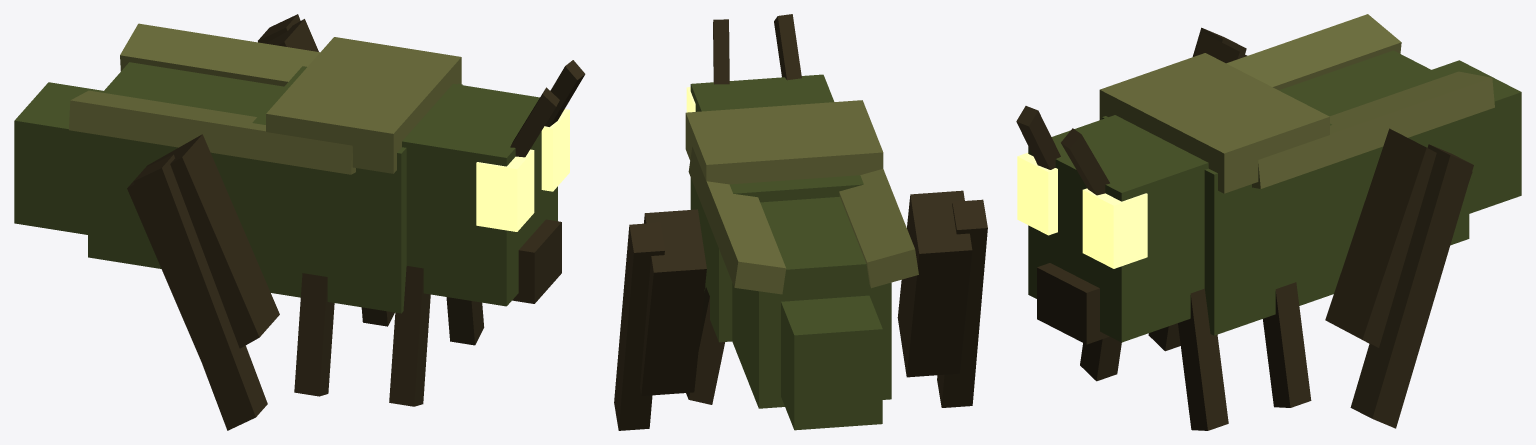
The model's file is locust.glb.
The picture shows the model from 3 angles, left to right: view 1: azimuth 30°, elevation 25°; view 2: azimuth 150°, elevation 25°; view 3: azimuth 270°, elevation 25°; orthographic projection. The views are drawn at different scales.
Visible parts, largest first — view 1: P02_LocustChitin, P00_LocustChitin, P01_LocustShell, P08_LocustChitin, P14_LocustLimb, P10_LocustShell, P12_LocustLimb, P09_LocustChitin, P11_LocustShell, P18_LocustLimb, P16_LocustLimb, P03_LocustEye (+6 smaller); view 2: P08_LocustChitin, P01_LocustShell, P09_LocustChitin, P12_LocustLimb, P13_LocustLimb, P11_LocustShell, P15_LocustLimb, P10_LocustShell, P00_LocustChitin, P14_LocustLimb, P02_LocustChitin, P17_LocustLimb (+2 smaller); view 3: P02_LocustChitin, P00_LocustChitin, P01_LocustShell, P15_LocustLimb, P13_LocustLimb, P11_LocustShell, P08_LocustChitin, P10_LocustShell, P09_LocustChitin, P19_LocustLimb, P04_LocustEye, P17_LocustLimb (+7 smaller).
Part boxes in pixels (x1=…): P02_LocustChitin: x1=402, y1=83, x2=557, y2=306; P00_LocustChitin: x1=246, y1=66, x2=462, y2=313; P01_LocustShell: x1=266, y1=37, x2=461, y2=173; P08_LocustChitin: x1=88, y1=62, x2=283, y2=268; P14_LocustLimb: x1=133, y1=154, x2=267, y2=430; P10_LocustShell: x1=69, y1=90, x2=355, y2=174; P12_LocustLimb: x1=127, y1=134, x2=279, y2=358; P09_LocustChitin: x1=14, y1=82, x2=103, y2=234; P11_LocustShell: x1=120, y1=23, x2=319, y2=86; P18_LocustLimb: x1=389, y1=266, x2=430, y2=406; P16_LocustLimb: x1=294, y1=273, x2=334, y2=396; P03_LocustEye: x1=476, y1=149, x2=534, y2=231; P08_LocustChitin: x1=732, y1=196, x2=891, y2=408; P01_LocustShell: x1=685, y1=100, x2=883, y2=184; P09_LocustChitin: x1=781, y1=295, x2=882, y2=430; P12_LocustLimb: x1=897, y1=190, x2=972, y2=377; P13_LocustLimb: x1=640, y1=209, x2=706, y2=395; P11_LocustShell: x1=688, y1=147, x2=786, y2=294; P15_LocustLimb: x1=614, y1=222, x2=664, y2=430; P10_LocustShell: x1=839, y1=169, x2=918, y2=288; P00_LocustChitin: x1=694, y1=175, x2=863, y2=342; P14_LocustLimb: x1=937, y1=199, x2=987, y2=407; P02_LocustChitin: x1=690, y1=74, x2=834, y2=209; P17_LocustLimb: x1=686, y1=286, x2=724, y2=404; P02_LocustChitin: x1=1028, y1=115, x2=1208, y2=342; P00_LocustChitin: x1=1102, y1=116, x2=1342, y2=335; P01_LocustShell: x1=1099, y1=53, x2=1329, y2=193; P15_LocustLimb: x1=1350, y1=144, x2=1473, y2=428; P13_LocustLimb: x1=1325, y1=128, x2=1472, y2=347; P11_LocustShell: x1=1252, y1=71, x2=1494, y2=188; P08_LocustChitin: x1=1279, y1=50, x2=1469, y2=267; P10_LocustShell: x1=1226, y1=14, x2=1401, y2=90; P09_LocustChitin: x1=1432, y1=60, x2=1521, y2=213; P19_LocustLimb: x1=1178, y1=288, x2=1228, y2=430; P04_LocustEye: x1=1082, y1=188, x2=1147, y2=268; P17_LocustLimb: x1=1263, y1=282, x2=1311, y2=407.
Bounding box in the file's own units: 8.3 × 6.58 × 9.4.
